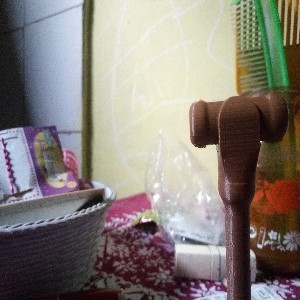palu: (188, 92, 289, 300)
